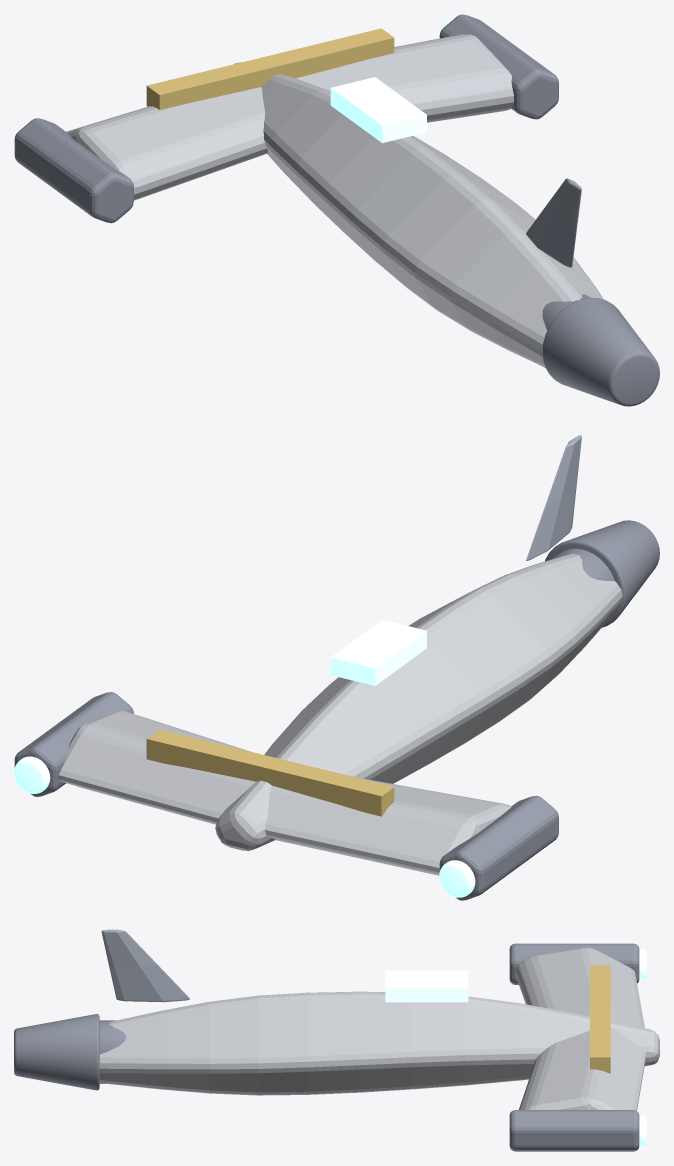
File: consortium-galactica-scout.glb
3 views of the same model, one above another, from view 1: azimuth 30°, elevation 25°; view 2: azimuth 150°, elevation 25°; view 3: azimuth 270°, elevation 25° (orthographic). The views are drawn at different scales.
Visible parts, largest first — view 1: hull, hammer, Cone, Cube, Cylinder, Cylinder.002, Cube.001, fin; view 2: hull, hammer, Cube, Cylinder, Cone, Cube.001, Cylinder.002, fin, Cylinder.001, Cylinder.003, Cylinder.004; view 3: hull, hammer, Cylinder.002, Cone, fin, Cube.001, Cube, Cylinder, Cylinder.004.
Part boxes in pixels (bbox=[...]): hull: bbox=[234, 62, 603, 367]; hammer: bbox=[66, 34, 513, 200]; Cone: bbox=[542, 297, 659, 406]; Cube: bbox=[146, 28, 394, 109]; Cylinder: bbox=[14, 118, 133, 223]; Cylinder.002: bbox=[439, 14, 558, 119]; Cube.001: bbox=[330, 77, 426, 143]; fin: bbox=[526, 178, 581, 267]; hull: bbox=[215, 553, 622, 850]; hammer: bbox=[58, 710, 511, 875]; Cube: bbox=[146, 729, 394, 816]; Cylinder: bbox=[439, 795, 558, 900]; Cone: bbox=[545, 520, 659, 627]; Cube.001: bbox=[330, 620, 426, 685]; Cylinder.002: bbox=[14, 692, 133, 796]; fin: bbox=[526, 435, 581, 560]; Cylinder.001: bbox=[439, 860, 475, 897]; Cylinder.003: bbox=[14, 756, 50, 793]; Cylinder.004: bbox=[551, 548, 614, 580]; hull: bbox=[99, 991, 659, 1095]; hammer: bbox=[515, 947, 646, 1110]; Cylinder.002: bbox=[509, 1110, 639, 1151]; Cone: bbox=[14, 1014, 99, 1090]; fin: bbox=[101, 929, 189, 1002]; Cube.001: bbox=[385, 970, 468, 1002]; Cube: bbox=[590, 965, 610, 1073]; Cylinder: bbox=[509, 943, 639, 984]; Cylinder.004: bbox=[99, 1020, 126, 1083].
Size of the model in its own units: 1.68 by 0.6679 by 2.49.
